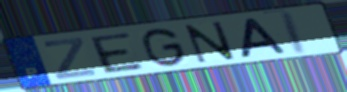A: (239, 15, 291, 59)
E: (87, 31, 147, 74)
G: (140, 27, 189, 69)
I: (280, 9, 311, 56)
N: (182, 20, 238, 65)
Z: (40, 35, 98, 81)
